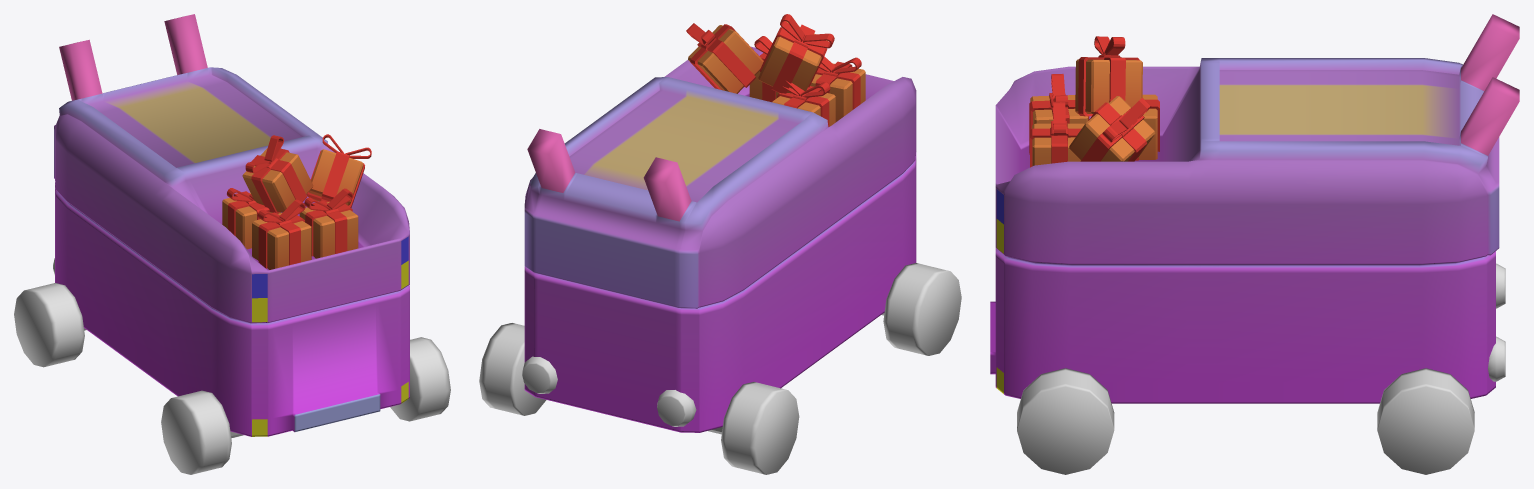
The model's file is машина 2 .fbx.
The picture shows the model from 3 angles, left to right: view 1: azimuth 30°, elevation 25°; view 2: azimuth 150°, elevation 25°; view 3: azimuth 270°, elevation 25°; orthographic projection. The views are drawn at different scales.
Visible parts, largest first — view 1: Cube.135, Cylinder.003, Cylinder.006, Cube.140, Cube.138, Cylinder.005, Cube.139, Cube.141, Cube.136; view 2: Cube.135, Cylinder.006, Cylinder.003, Cylinder.004, Cube.140, Cube.141, Cylinder.002, Cube.138, Cube.136, Cube.139; view 3: Cube.135, Cylinder.004, Cylinder.005, Cube.141, Cube.140, Cube.139, Cube.138, Cylinder.002, Cube.136.
Boxes of the visible parts, x1=… form: Cube.135: x1=54, y1=14, x2=409, y2=436; Cylinder.003: x1=14, y1=283, x2=84, y2=367; Cylinder.006: x1=161, y1=390, x2=231, y2=474; Cube.140: x1=242, y1=135, x2=313, y2=213; Cube.138: x1=252, y1=199, x2=311, y2=269; Cylinder.005: x1=390, y1=337, x2=450, y2=421; Cube.139: x1=299, y1=188, x2=358, y2=258; Cube.141: x1=306, y1=134, x2=371, y2=207; Cube.136: x1=222, y1=188, x2=280, y2=249; Cube.135: x1=524, y1=46, x2=916, y2=432; Cylinder.006: x1=883, y1=263, x2=961, y2=355; Cylinder.003: x1=721, y1=382, x2=799, y2=474; Cylinder.004: x1=479, y1=323, x2=546, y2=415; Cube.140: x1=758, y1=14, x2=834, y2=93; Cube.141: x1=686, y1=23, x2=763, y2=93; Cylinder.002: x1=522, y1=356, x2=696, y2=426; Cube.138: x1=810, y1=56, x2=865, y2=122; Cube.136: x1=772, y1=80, x2=835, y2=126; Cube.139: x1=749, y1=36, x2=779, y2=101; Cube.135: x1=990, y1=14, x2=1519, y2=403; Cylinder.004: x1=1377, y1=368, x2=1474, y2=474; Cylinder.005: x1=1017, y1=368, x2=1114, y2=474; Cube.141: x1=1069, y1=96, x2=1155, y2=161; Cube.140: x1=1075, y1=36, x2=1142, y2=116; Cube.139: x1=1030, y1=102, x2=1084, y2=167; Cube.138: x1=1029, y1=74, x2=1089, y2=154; Cylinder.002: x1=1488, y1=263, x2=1505, y2=381; Cube.136: x1=1135, y1=94, x2=1159, y2=160.
Size of the model in its own units: 269 by 300 by 402.
